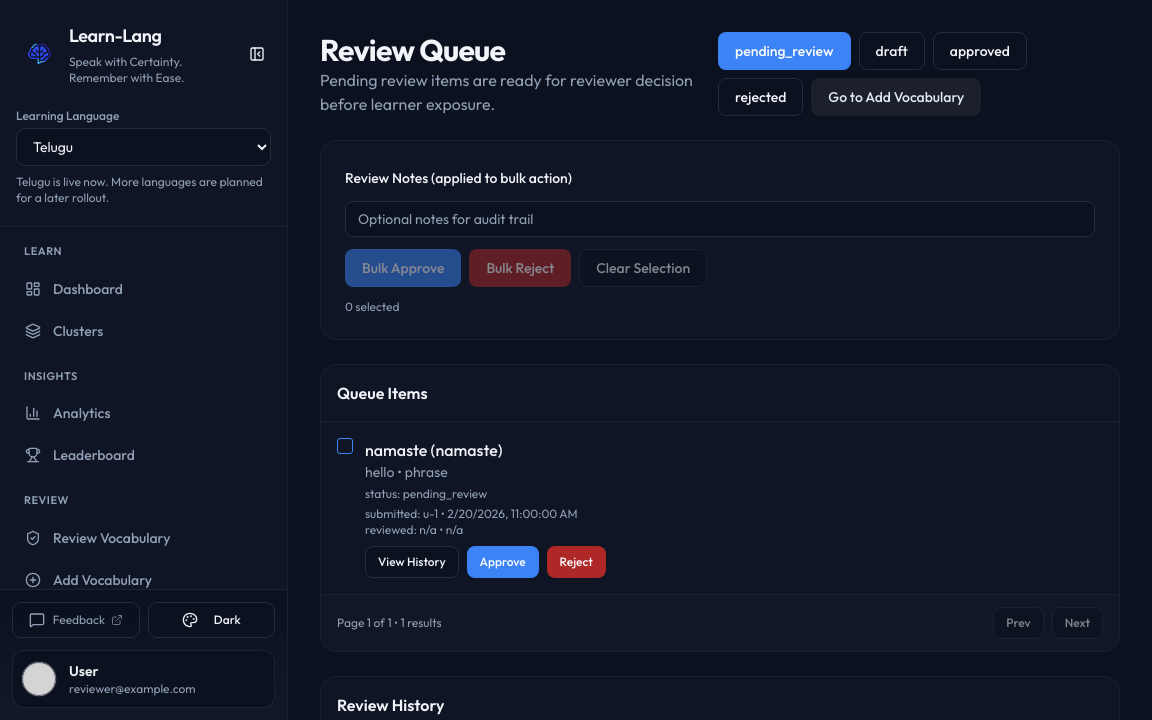
Scenario: ReviewPage integration › renders review-history error state after selecting an item
Step 1. Click the button "View History" → (412, 562), box [365, 546, 459, 578]
(page scrolled)
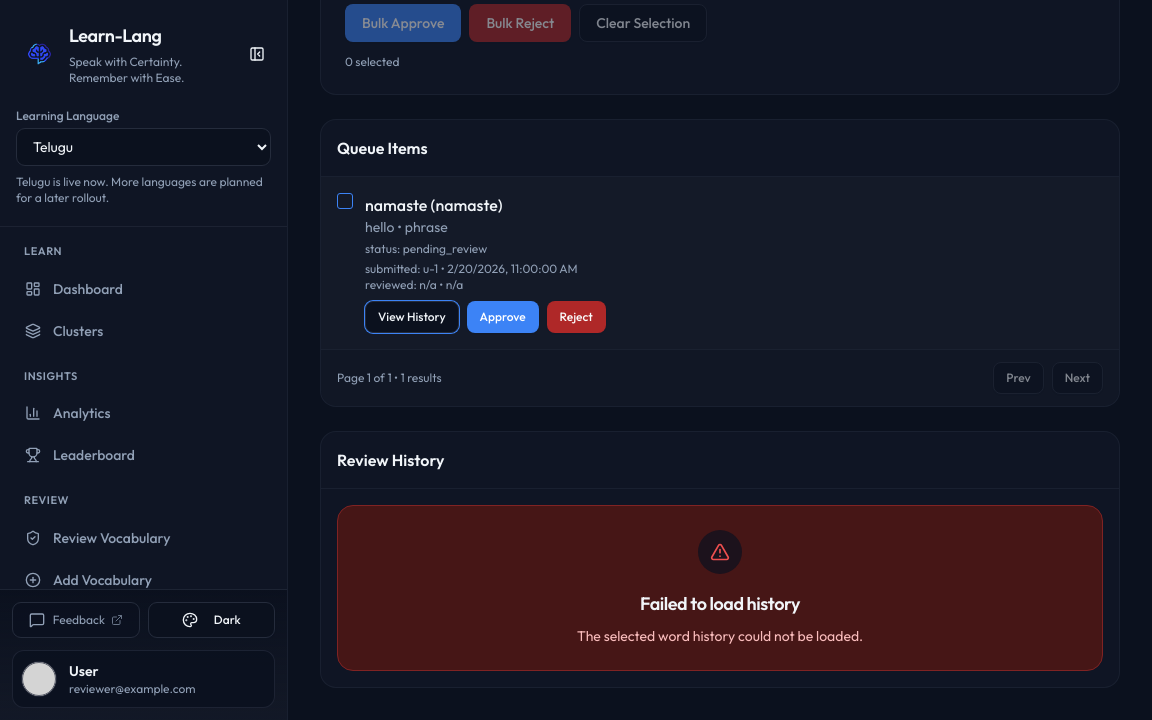
Check: the heading "Failed to load history" is shown, box [640, 592, 800, 615]
